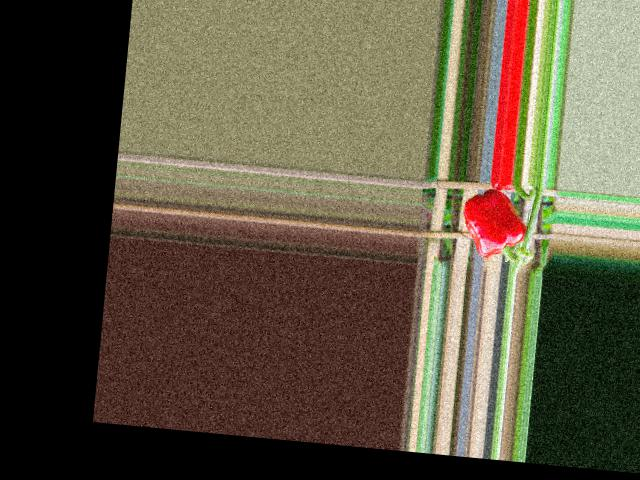bell_pepper: (454, 187, 534, 261)
